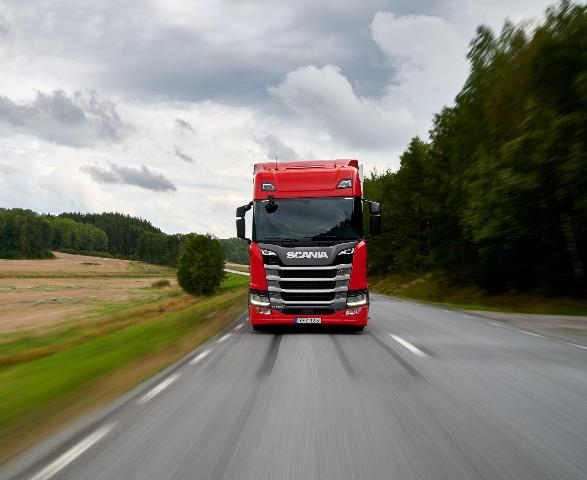truck: (232, 150, 388, 334)
